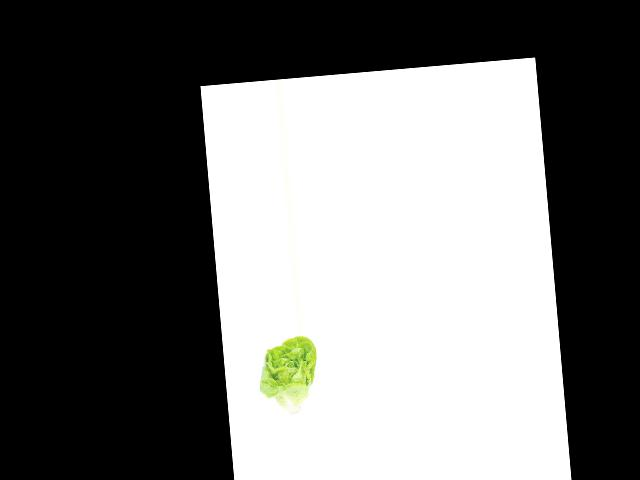lettuce: (251, 334, 323, 419)
